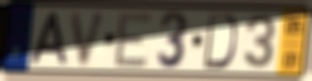3: (155, 10, 191, 72), (243, 14, 279, 72)
A: (27, 11, 69, 66)
D: (201, 12, 239, 71)
E: (112, 12, 154, 70)
V: (69, 10, 110, 69)
